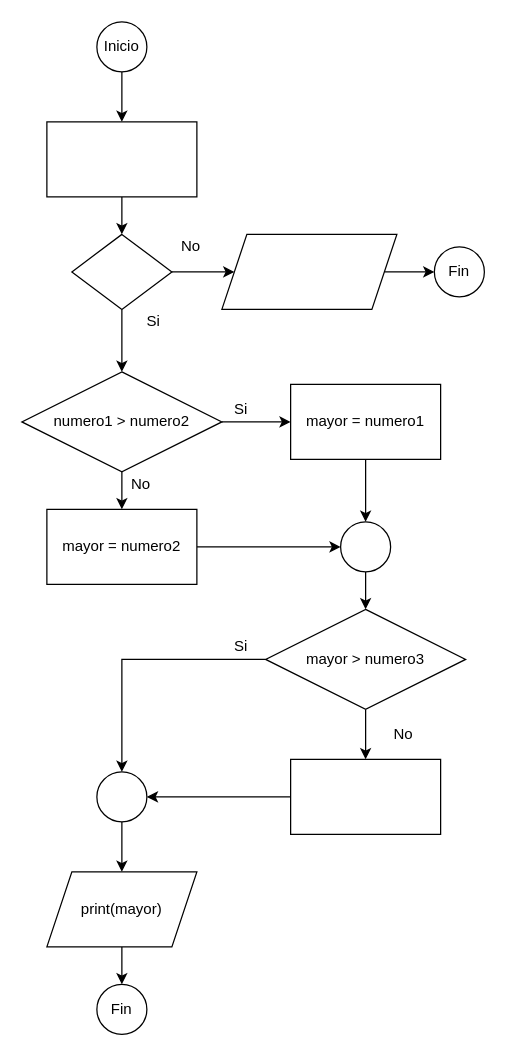
Image size: 506x1056. Some labels were removed from this diagram. The centre of each missing label's shape, as x and y in pixels:
largo > 3: the point at 121,271
Lee la cantidad de argumentos (largo): the point at 121,159
mayor = numero3: the point at 365,796
Mensaje al usuario: the point at 309,271
